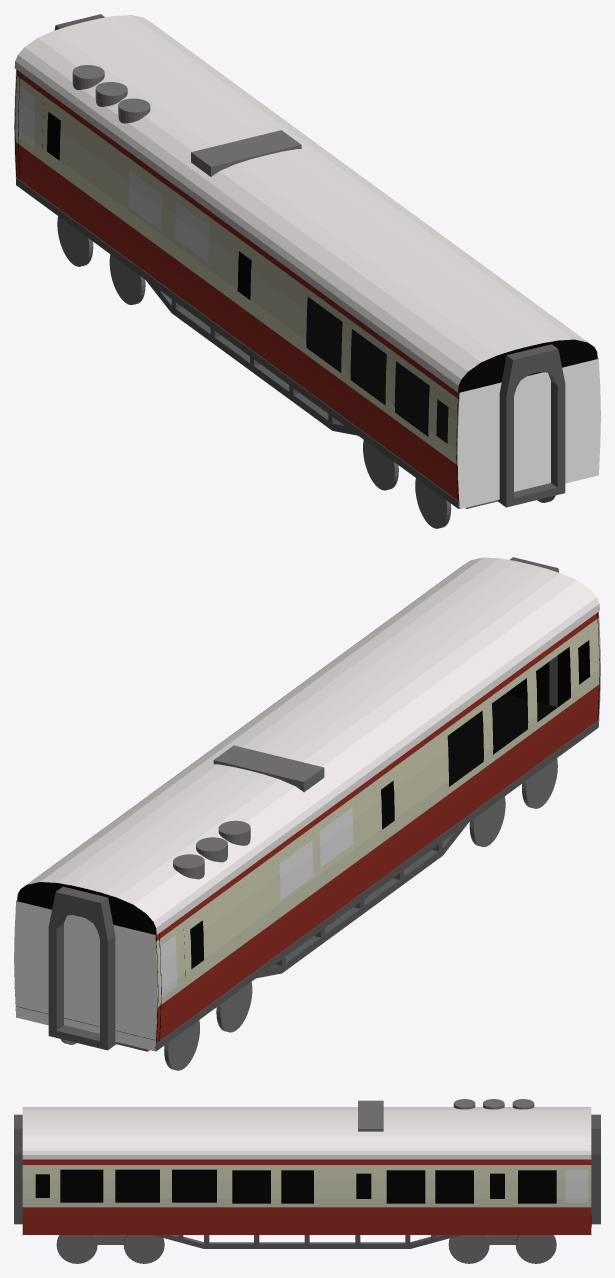
3 renders of one model, top to bottom at view 1: azimuth 30°, elevation 25°; view 2: azimuth 150°, elevation 25°; view 3: azimuth 270°, elevation 25°, orthographic. The views are drawn at different scales.
Visible parts, largest first — view 1: Suzanne_001, Plane_030, Plane_070, Plane_086, Plane_091, Tube_002, Plane_002, Plane_032, Plane_029, Plane_031, Cube_044, Suzanne (+11 smaller); view 2: Suzanne_001, Plane_030, Plane_001, Plane_086, Tube_003, Plane_091, Plane_002, Plane_032, Plane_029, Plane_031, Cube_044, Suzanne_002 (+12 smaller); view 3: Suzanne_001, Plane_007, Plane_090, Plane_012, Plane_005, Plane_006, Plane_004, Plane_098, Plane_101, Plane_097, Plane_094, Plane_100 (+21 smaller).
Part boxes in pixels (x1,y1,x2,y2): Suzanne_001: (14, 15, 597, 392); Plane_030: (14, 141, 459, 508); Plane_070: (457, 358, 600, 508); Plane_086: (42, 103, 307, 347); Plane_091: (306, 297, 448, 443); Tube_002: (498, 344, 565, 507); Plane_002: (16, 178, 459, 508); Plane_032: (16, 76, 459, 406); Plane_029: (14, 134, 457, 464); Plane_031: (16, 70, 459, 399); Cube_044: (191, 130, 301, 176); Suzanne: (458, 339, 597, 392); Suzanne_001: (17, 557, 599, 934); Plane_030: (155, 684, 599, 1048); Plane_001: (14, 901, 157, 1051); Plane_086: (184, 736, 448, 979); Tube_003: (48, 886, 115, 1050); Plane_091: (16, 694, 557, 1040); Plane_002: (155, 720, 598, 1051); Plane_032: (155, 618, 598, 948); Plane_029: (156, 677, 600, 1007); Plane_031: (155, 612, 598, 941); Cube_044: (213, 745, 324, 792); Suzanne_002: (17, 882, 156, 935); Suzanne_001: (22, 1107, 591, 1159); Plane_007: (22, 1207, 591, 1234); Plane_090: (24, 1159, 590, 1202); Plane_012: (217, 1169, 554, 1202); Plane_005: (22, 1202, 591, 1207); Plane_006: (22, 1160, 591, 1164); Plane_004: (22, 1165, 591, 1169); Plane_098: (386, 1170, 425, 1203); Plane_101: (232, 1170, 270, 1203); Plane_097: (435, 1170, 473, 1203); Plane_094: (518, 1170, 556, 1203); Plane_100: (281, 1170, 313, 1203).
Size of the model in its own units: 2.16 by 11.38 by 2.74.
